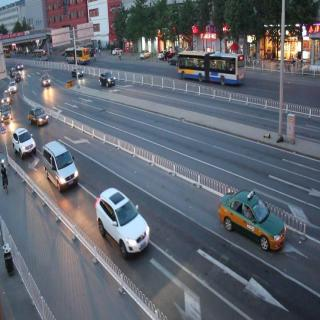BigCar: (176, 52, 248, 93), (62, 38, 96, 70)
Car: (90, 184, 158, 268), (215, 182, 287, 260), (38, 136, 88, 202), (23, 88, 55, 136), (7, 124, 35, 164), (39, 67, 61, 92), (72, 62, 89, 85), (0, 101, 14, 128), (101, 71, 117, 94), (3, 88, 14, 109), (8, 79, 20, 95)
